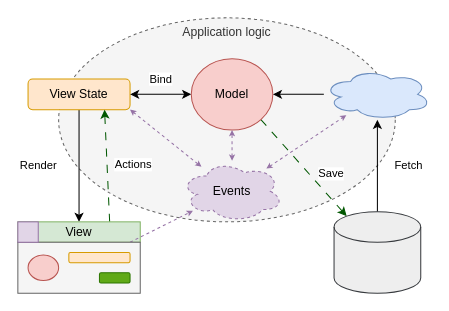
Some shapes in this 449 by 311 pixel diagram are drawn without their labels. The box of each missing label's shape, as (x1, y1, x2, y2) in pixels:
Cache: (323, 68, 431, 120)
Storage: (333, 211, 421, 293)
